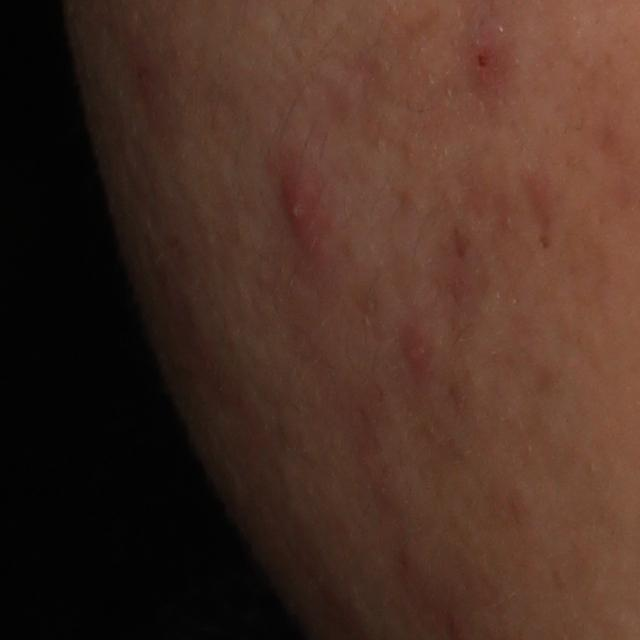papule: (267, 157, 341, 249), (395, 323, 440, 384), (462, 28, 504, 81)
